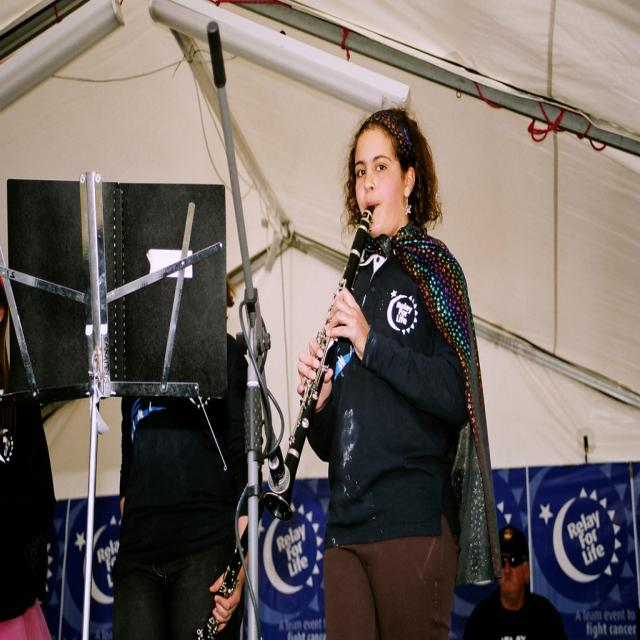clarinet: (262, 205, 378, 522), (195, 488, 263, 640)
